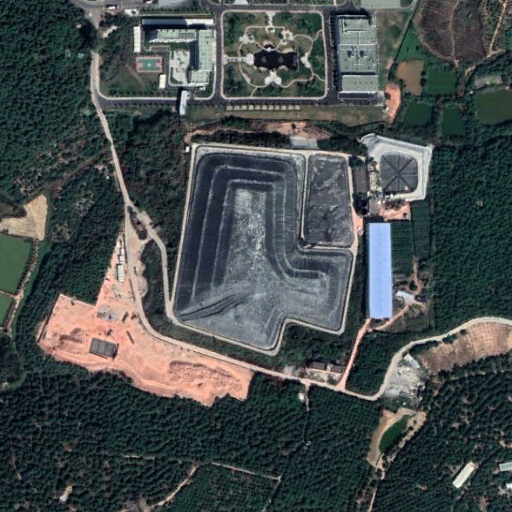lf: (175, 151, 353, 350)
